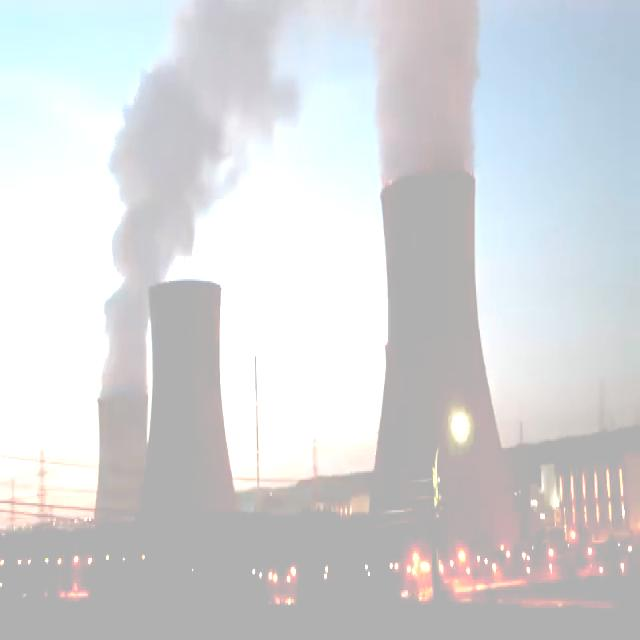smoke: (100, 0, 295, 398), (372, 0, 478, 185)
